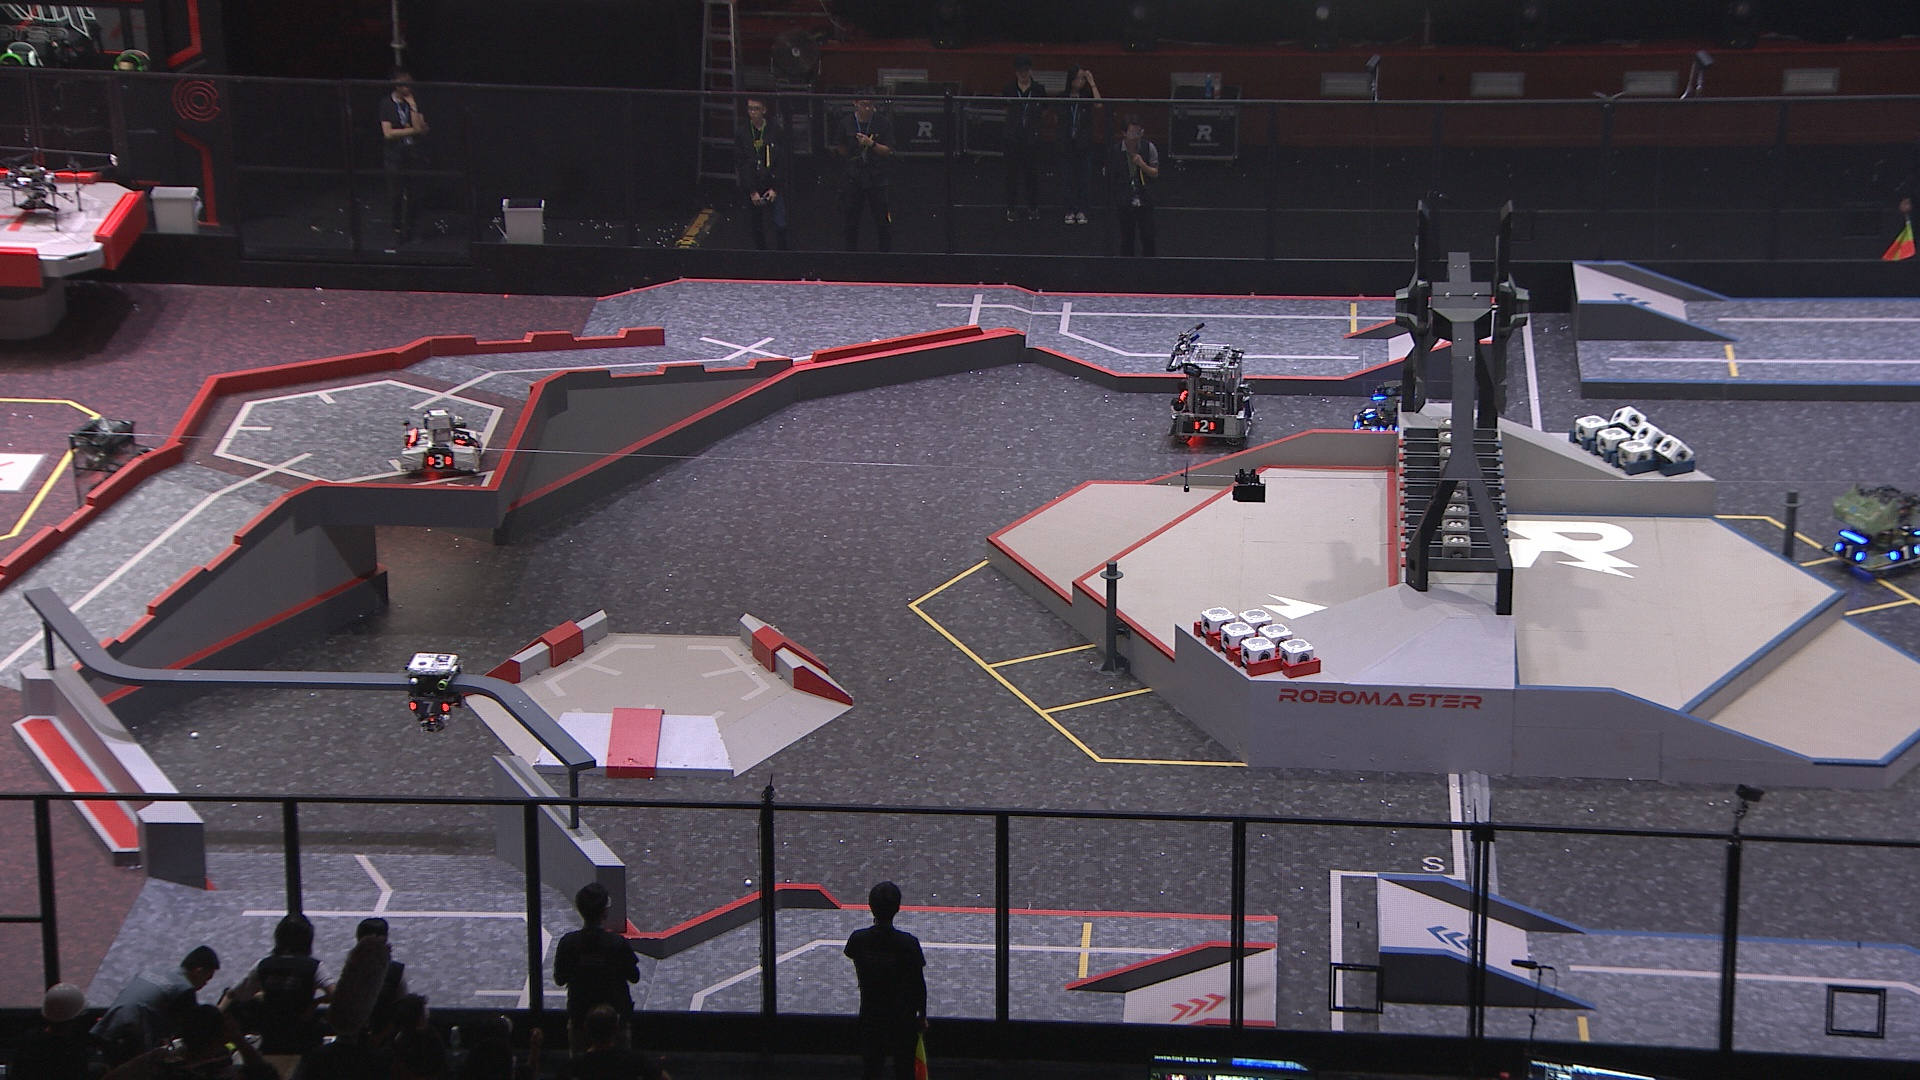armor: (406, 695, 452, 717), (1828, 538, 1865, 566), (1888, 541, 1920, 566), (423, 450, 454, 472), (448, 425, 472, 448), (1189, 418, 1218, 436), (1377, 422, 1403, 438), (1361, 405, 1379, 419)
car: (1160, 339, 1262, 452), (69, 417, 171, 526), (1816, 477, 1920, 579), (396, 406, 483, 477), (1346, 377, 1432, 447)
watcher: (404, 650, 465, 731)
